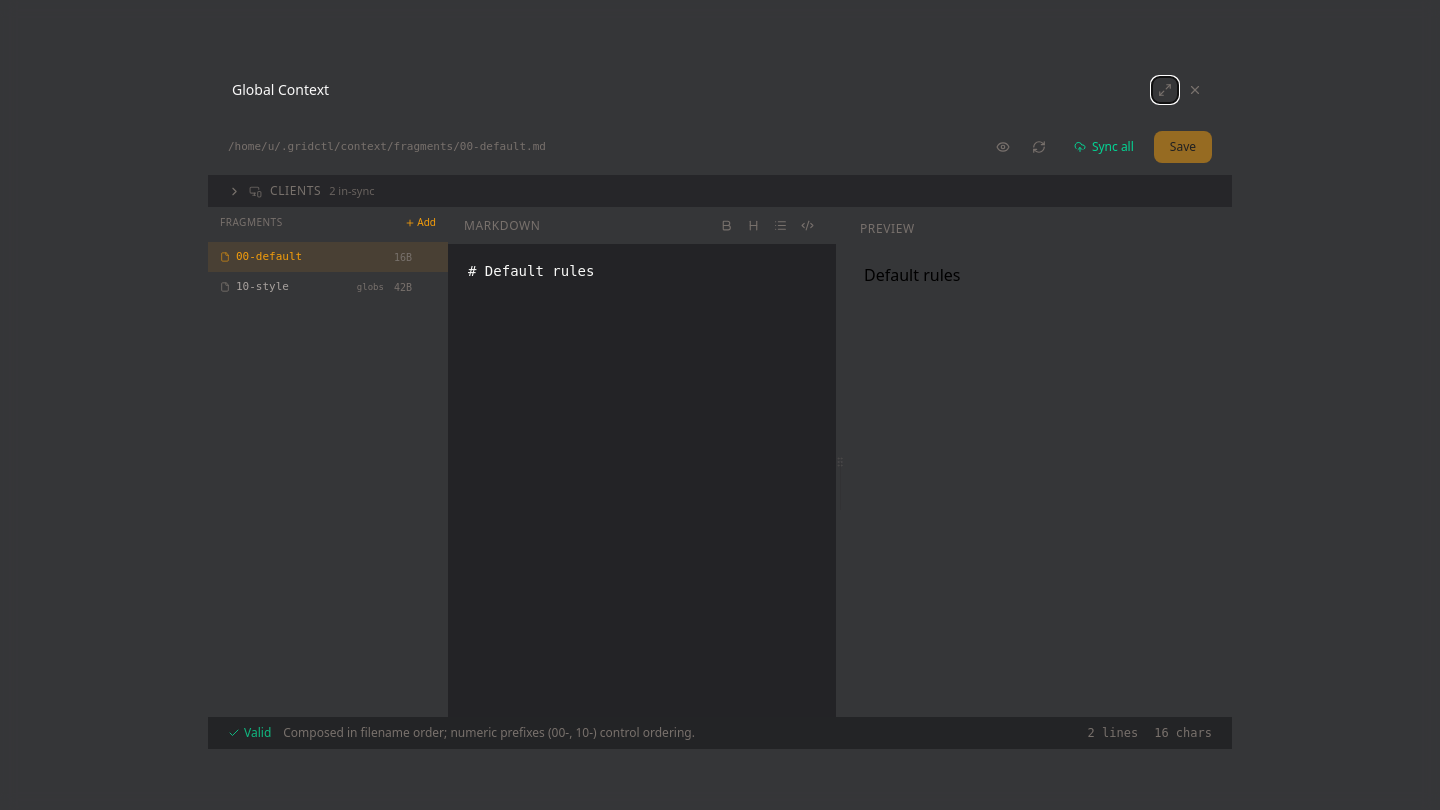
Scenario: GlobalContextDialog fragments mode › shows per-client mode chips in the clients strip
The width and height of the screenshot is (1440, 810).
Expected: the button "00-default" is shown, 236,249 -> 388,266
Click the text "Clients" at (296, 191), box 270,183 -> 321,199
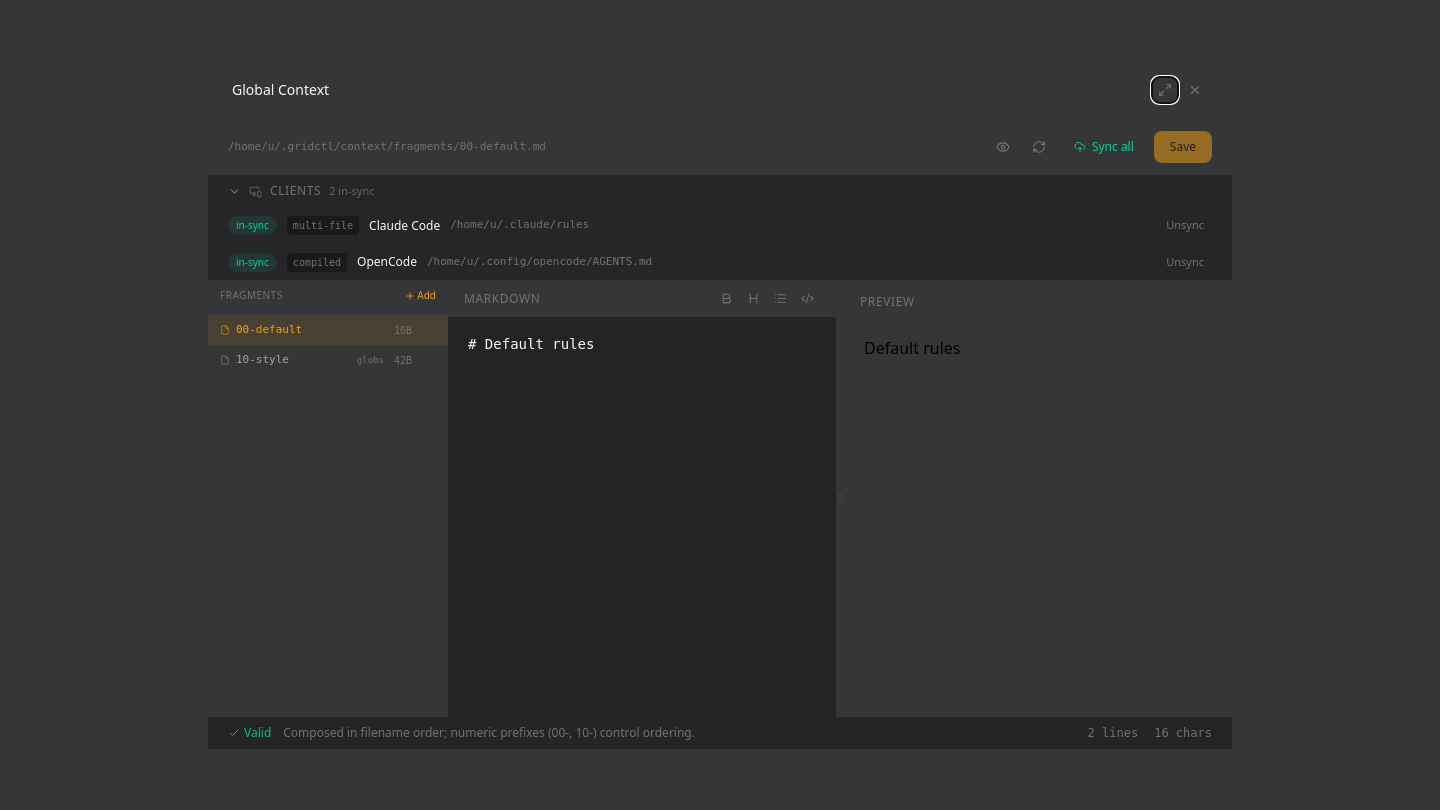
Result: the text "multi-file" is shown at 287,216 -> 359,235
Result: the text "compiled" is shown at 287,252 -> 347,272
